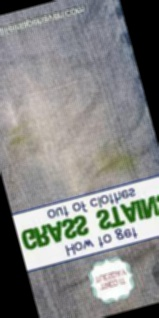earth: (97, 141, 144, 180), (7, 121, 36, 147)
